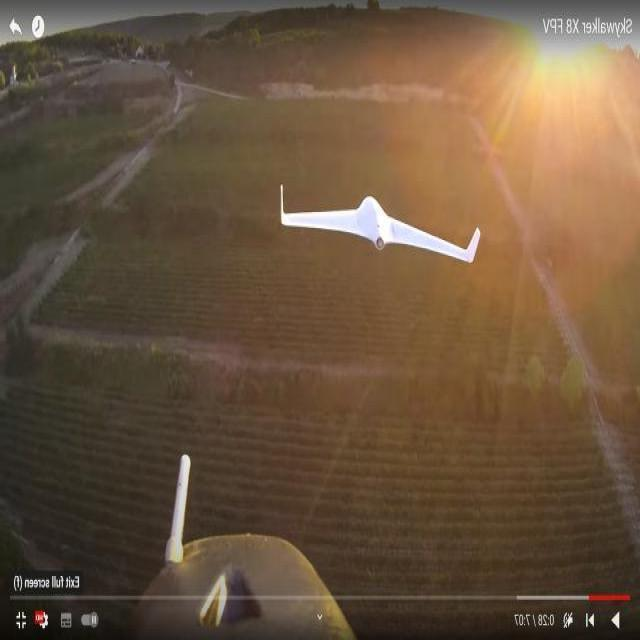iha: (259, 211, 467, 225)
